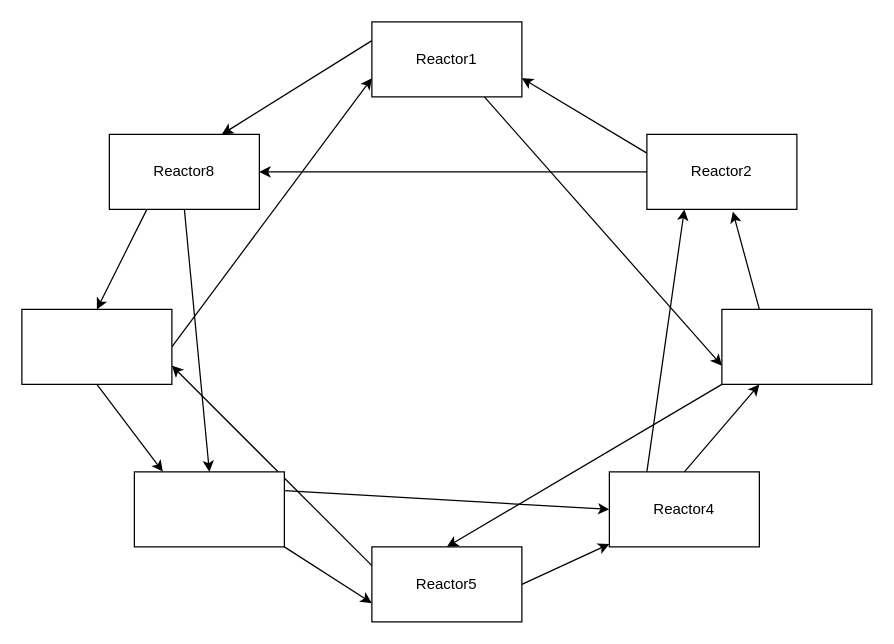
This 894x644 diagram has some shape labels left out. Here are the shapes that lost their labels. From the top down, the centre of each, then its label:
At pixel 96 346: "Reactor7".
At pixel 796 346: "Reactor3".
At pixel 208 509: "Reactor6".
